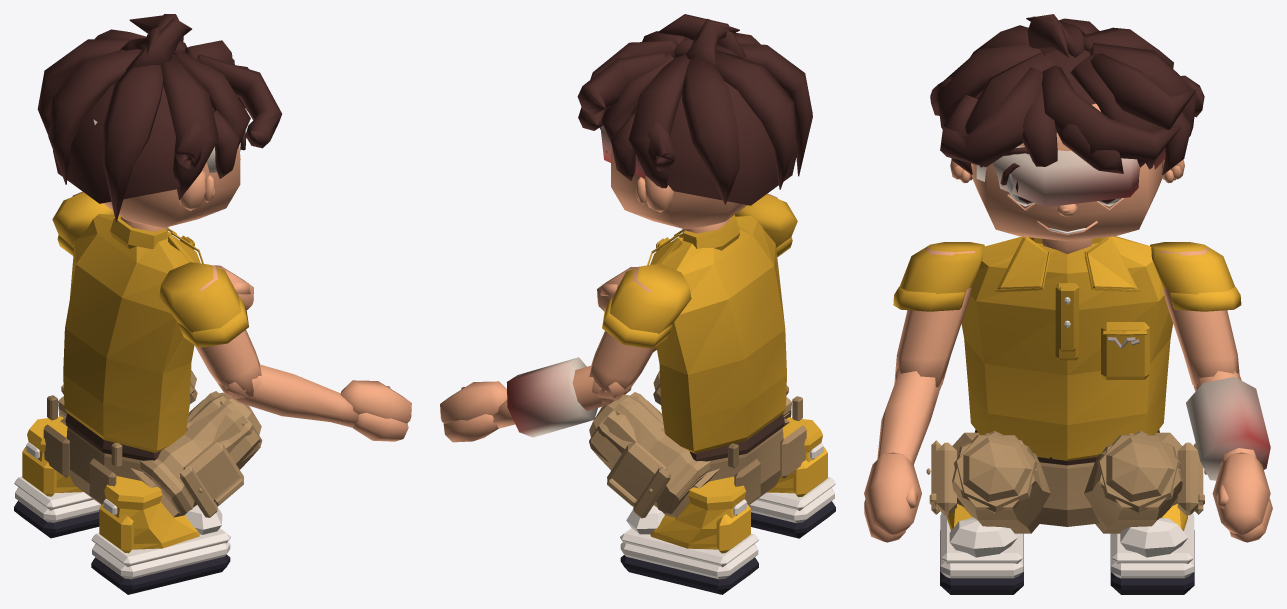
The model's file is npc.shelter-survivor.sitting.lod1.glb.
The picture shows the model from 3 angles, left to right: view 1: azimuth 30°, elevation 25°; view 2: azimuth 150°, elevation 25°; view 3: azimuth 270°, elevation 25°; orthographic projection. The views are drawn at different scales.
Visible parts, largest first — view 1: head, torso, footR, armR, footL, hip, legR, shinR, foreArmR, handR, armL, handL; view 2: head, torso, footL, armL, foreArmL, footR, hip, legL, shinL, handL, armR, handR; view 3: head, torso, armR, armL, footL, footR, foreArmL, shinL, shinR, legR, legL, handL (+3 smaller).
Part boxes in pixels (left/top/right/bottom): head: left=37, top=14, right=281, bottom=232; torso: left=63, top=214, right=203, bottom=452; footR: left=91, top=476, right=230, bottom=594; armR: left=159, top=262, right=261, bottom=399; footL: left=14, top=416, right=101, bottom=538; hip: left=43, top=395, right=189, bottom=504; legR: left=130, top=395, right=260, bottom=517; shinR: left=140, top=391, right=262, bottom=513; foreArmR: left=218, top=364, right=358, bottom=427; handR: left=340, top=380, right=411, bottom=441; armL: left=52, top=191, right=114, bottom=255; handL: left=214, top=265, right=253, bottom=310; head: left=577, top=14, right=812, bottom=233; torso: left=647, top=215, right=786, bottom=453; footL: left=620, top=476, right=758, bottom=594; armL: left=589, top=263, right=691, bottom=400; foreArmL: left=492, top=357, right=631, bottom=437; footR: left=749, top=417, right=835, bottom=538; hip: left=661, top=396, right=806, bottom=504; legL: left=591, top=396, right=719, bottom=518; shinL: left=589, top=392, right=710, bottom=513; handL: left=440, top=381, right=507, bottom=442; armR: left=735, top=193, right=797, bottom=257; handR: left=597, top=267, right=635, bottom=311; head: left=930, top=14, right=1204, bottom=253; torso: left=961, top=236, right=1173, bottom=460; armR: left=893, top=242, right=984, bottom=387; armL: left=1150, top=242, right=1241, bottom=386; footL: left=1110, top=504, right=1194, bottom=594; footR: left=940, top=504, right=1023, bottom=594; foreArmL: left=1186, top=371, right=1270, bottom=480; shinL: left=1097, top=432, right=1182, bottom=512; shinR: left=952, top=432, right=1037, bottom=513; legR: left=926, top=431, right=1050, bottom=533; legL: left=1084, top=430, right=1206, bottom=533; handL: left=1212, top=452, right=1272, bottom=542.
Size of the model in its own units: 0.7229 by 1.28 by 0.8318.
